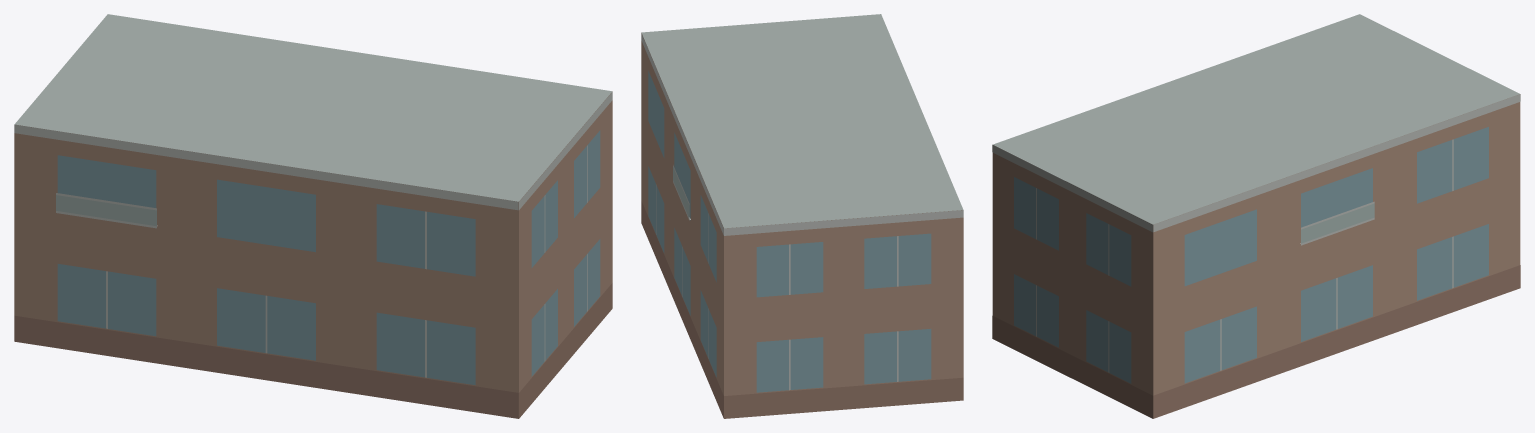
File: survey-upis-32619266.glb
3 views of the same model, side by side, from view 1: azimuth 30°, elevation 25°; view 2: azimuth 150°, elevation 25°; view 3: azimuth 270°, elevation 25° (orthographic). The views are drawn at different scales.
Parts seen in each view (by area): view 1: survey-upis-32619266.tmp; view 2: survey-upis-32619266.tmp; view 3: survey-upis-32619266.tmp.
Part boxes in pixels (bbox=[...]): survey-upis-32619266.tmp: bbox=[14, 14, 612, 418]; survey-upis-32619266.tmp: bbox=[641, 14, 963, 418]; survey-upis-32619266.tmp: bbox=[992, 14, 1520, 418].
Bounding box in the file's own units: 14.2 × 6.1 × 15.03.
